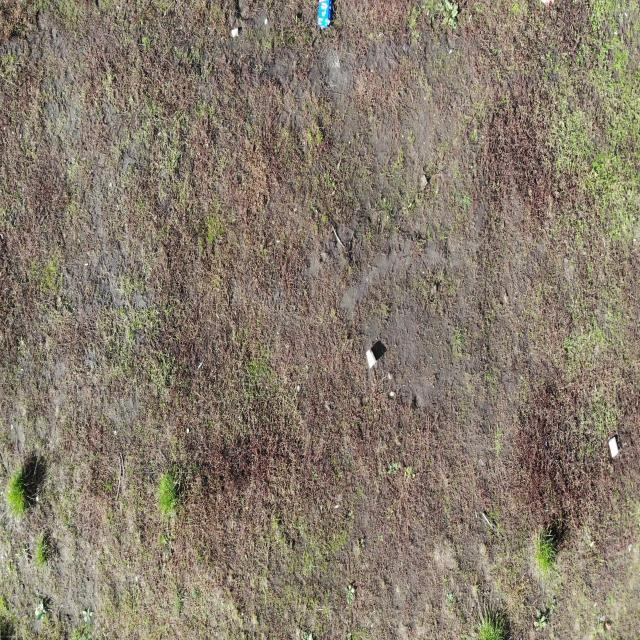rubbish: (607, 433, 620, 460), (364, 347, 378, 372)
